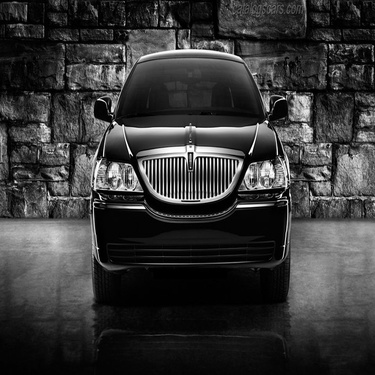car: (69, 44, 299, 275)
